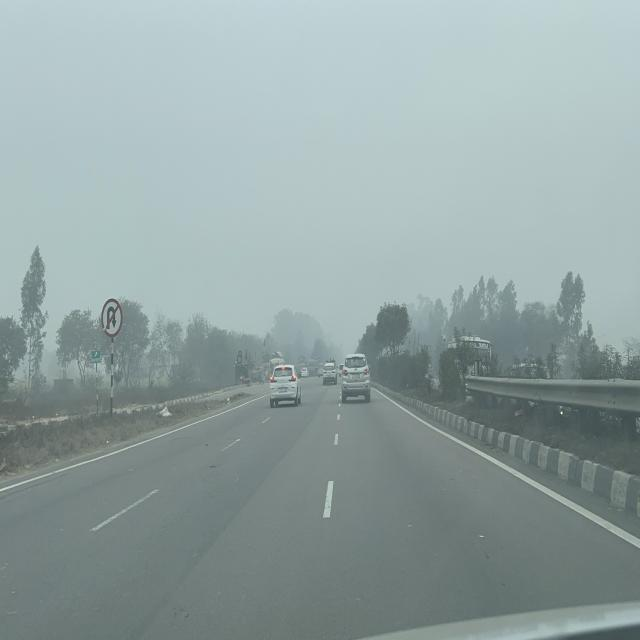GENERAL: (91, 350, 101, 363)
U_TURN_PROHIBITED: (101, 298, 123, 338)
